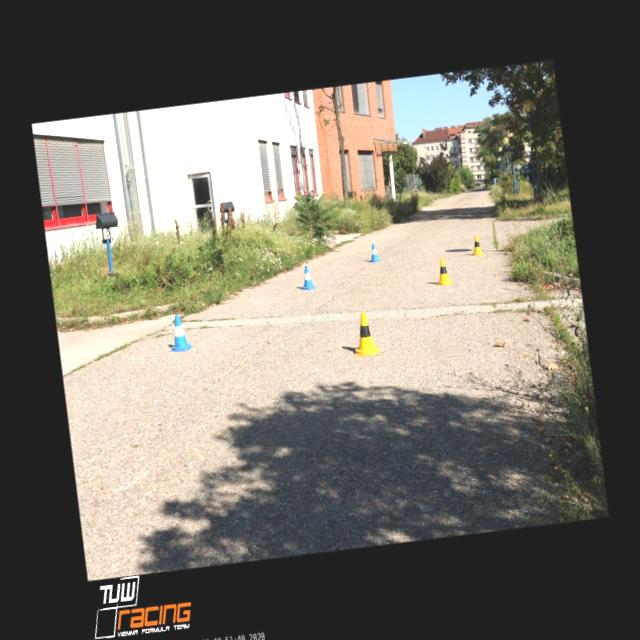blue_cone: (164, 313, 193, 354), (298, 265, 316, 291), (367, 242, 380, 262)
yellow_cone: (348, 310, 379, 358), (433, 256, 452, 286), (468, 234, 483, 256)
